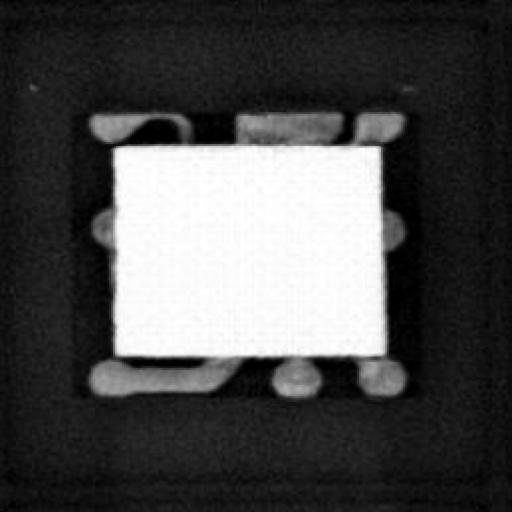DIE_INK: (24, 76, 40, 91)
